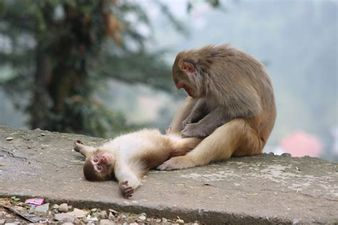monkey: (165, 29, 308, 175), (78, 123, 214, 199)
